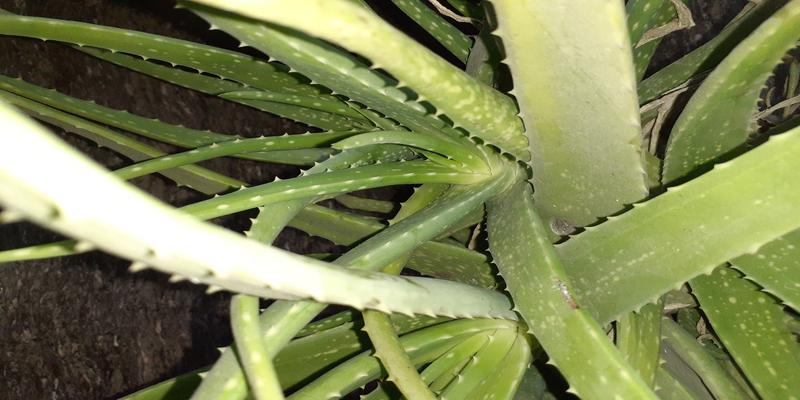Aloevera: (208, 37, 785, 373)
